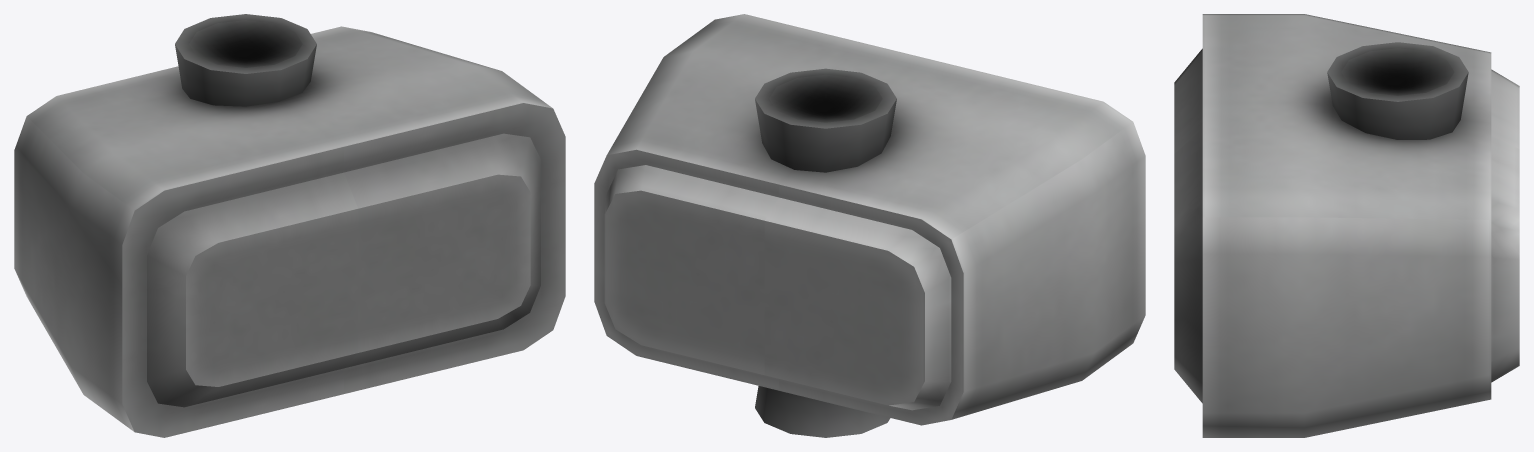
The model's file is Tantares_MOE_3.obj.
3 renders of one model, left to right at view 1: azimuth 30°, elevation 25°; view 2: azimuth 150°, elevation 25°; view 3: azimuth 270°, elevation 25°, orthographic.
Visible parts, largest first — view 1: Tantares_MOE_3; view 2: Tantares_MOE_3; view 3: Tantares_MOE_3.
Boxes of the visible parts, <box> form: Tantares_MOE_3: <box>14,14,565,437</box>; Tantares_MOE_3: <box>594,14,1145,437</box>; Tantares_MOE_3: <box>1174,14,1519,437</box>.
Size of the model in its own units: 0.225 by 0.15 by 0.1525.
